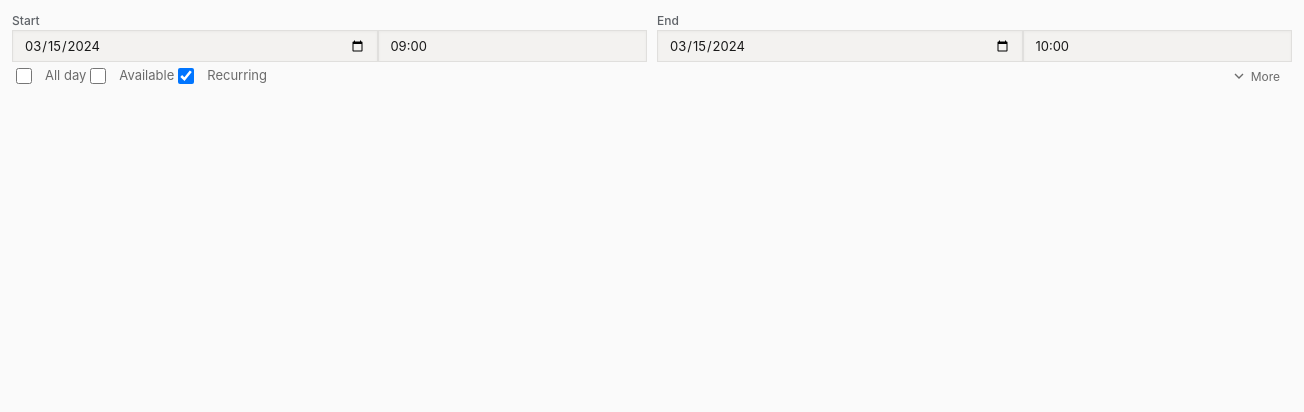
Test case: EventFormFields › MonthlyPatternPicker › renders monthly pattern picker when recurrence is monthly
The image size is (1304, 412).
Click the button "More" at point(1255, 76), box 1219,62 -> 1292,90
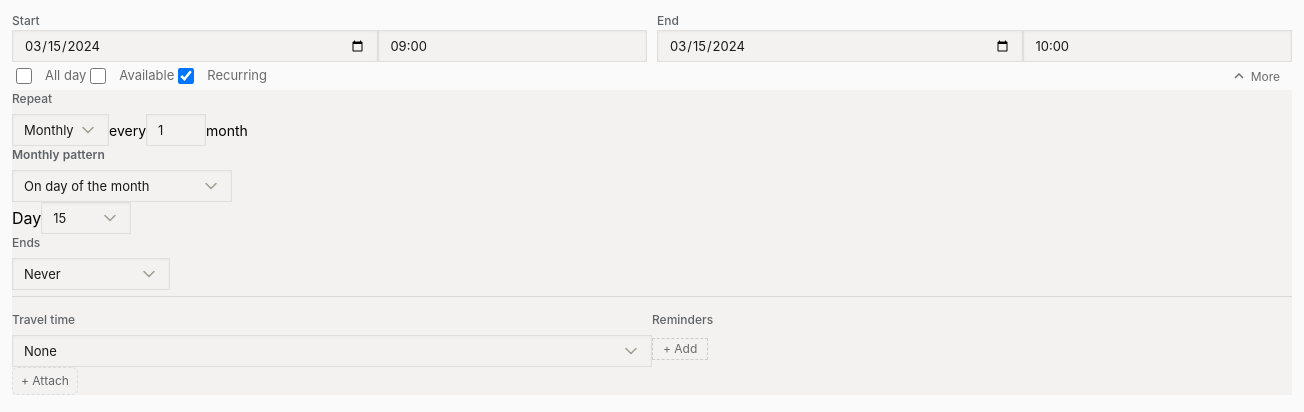
Check: the text "Monthly pattern" is shown, box 12,147 -> 105,162
